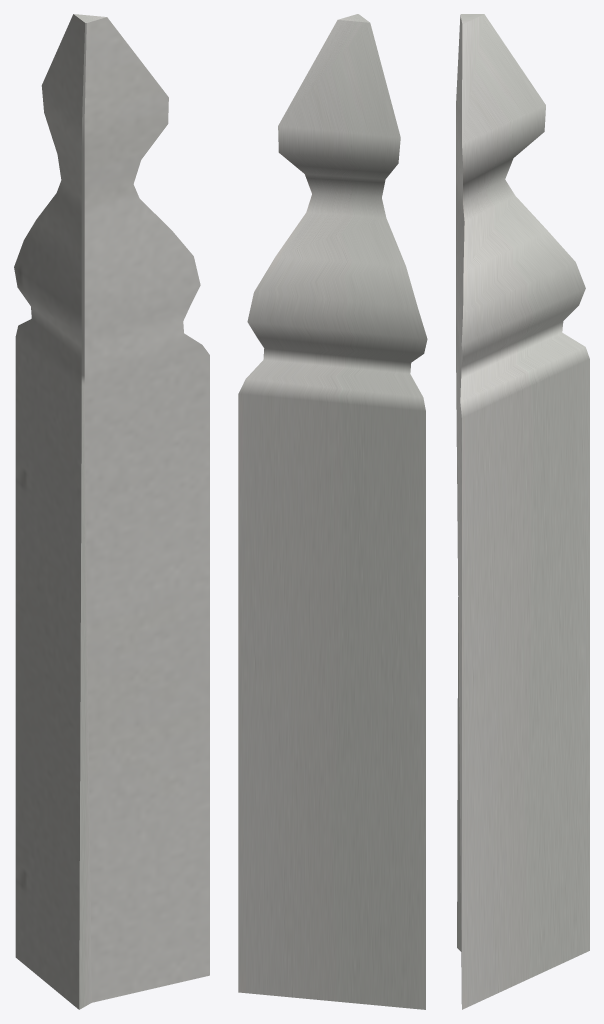
The model's file is Anchor-line6.fbx.
3 renders of one model, left to right at view 1: azimuth 30°, elevation 25°; view 2: azimuth 210°, elevation 25°; view 3: azimuth 270°, elevation 25°, orthographic. The views are drawn at different scales.
Visible parts, largest first — view 1: polySurface957; view 2: polySurface957; view 3: polySurface957.
Part boxes in pixels (x1=…): polySurface957: x1=14, y1=14, x2=209, y2=1009; polySurface957: x1=238, y1=14, x2=427, y2=1009; polySurface957: x1=456, y1=14, x2=589, y2=1009.
Bounding box in the file's own units: 0.0294 × 0.2069 × 0.0268.
